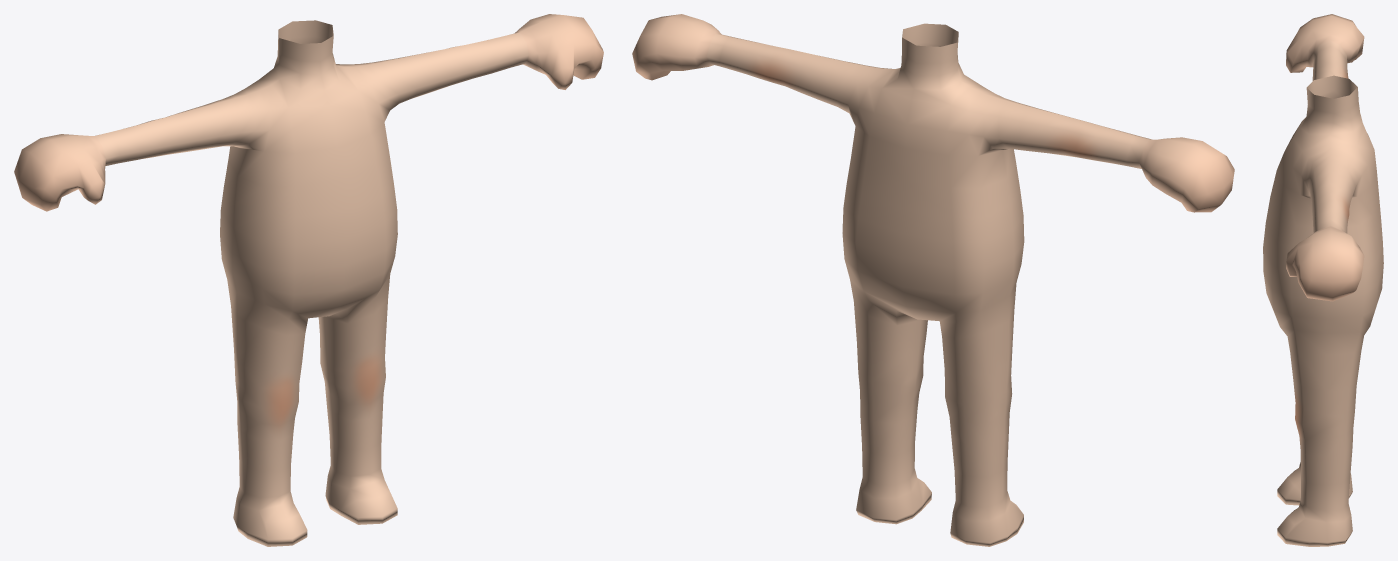
The model's file is Body_White_1.fbx.
3 views of the same model, side by side, from view 1: azimuth 30°, elevation 25°; view 2: azimuth 150°, elevation 25°; view 3: azimuth 270°, elevation 25° (orthographic). The views are drawn at different scales.
Parts seen in each view (by area): view 1: Body_White_1; view 2: Body_White_1; view 3: Body_White_1.
Part boxes in pixels (<box>): Body_White_1: <box>14,14,603,546</box>; Body_White_1: <box>632,14,1234,546</box>; Body_White_1: <box>1263,14,1383,546</box>.
Size of the model in its own units: 130 by 104 by 26.46.
